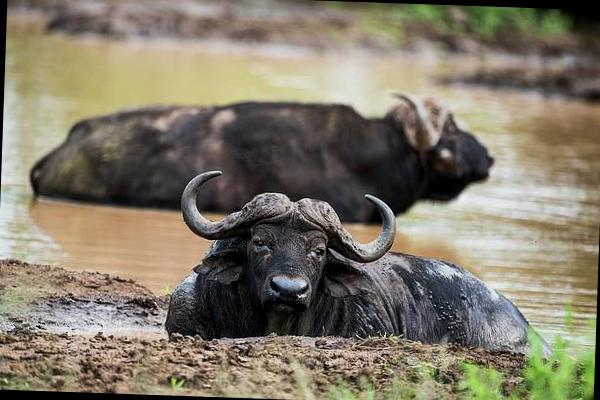Buffalo: (46, 53, 556, 400)
